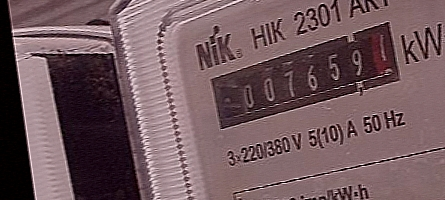0: (240, 80, 257, 109), (261, 75, 277, 104)
1: (374, 32, 390, 65)
5: (324, 51, 343, 85)
6: (303, 61, 320, 94)
7: (281, 66, 299, 100)
9: (347, 45, 367, 80)
screen: (191, 13, 423, 137)
